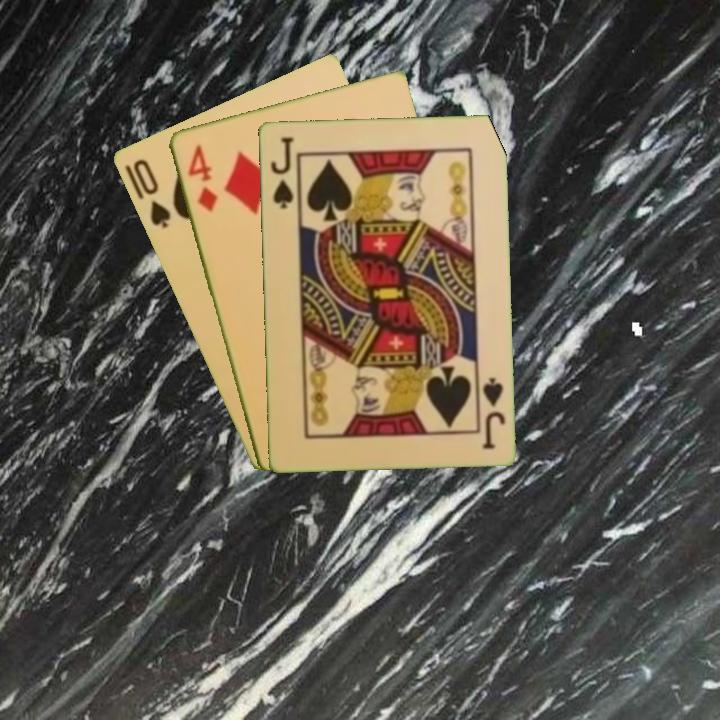10s: (129, 155, 174, 231)
4d: (183, 141, 221, 215)
Js: (478, 373, 508, 452), (267, 133, 296, 211)
